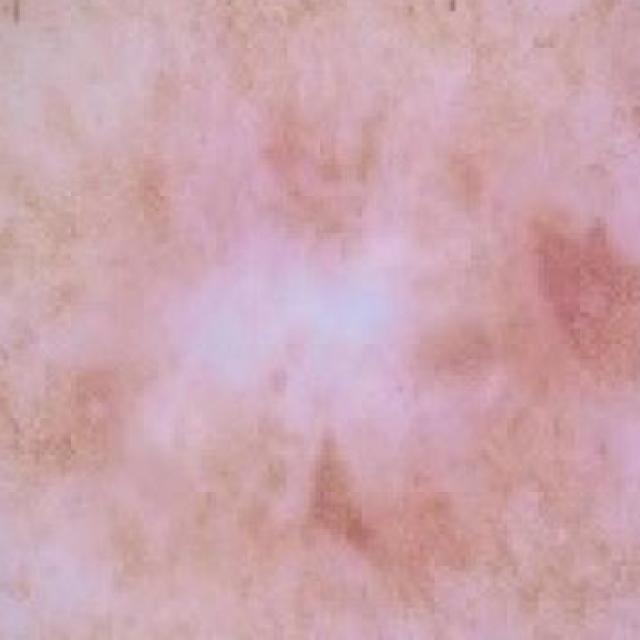DF: (69, 66, 640, 629)
